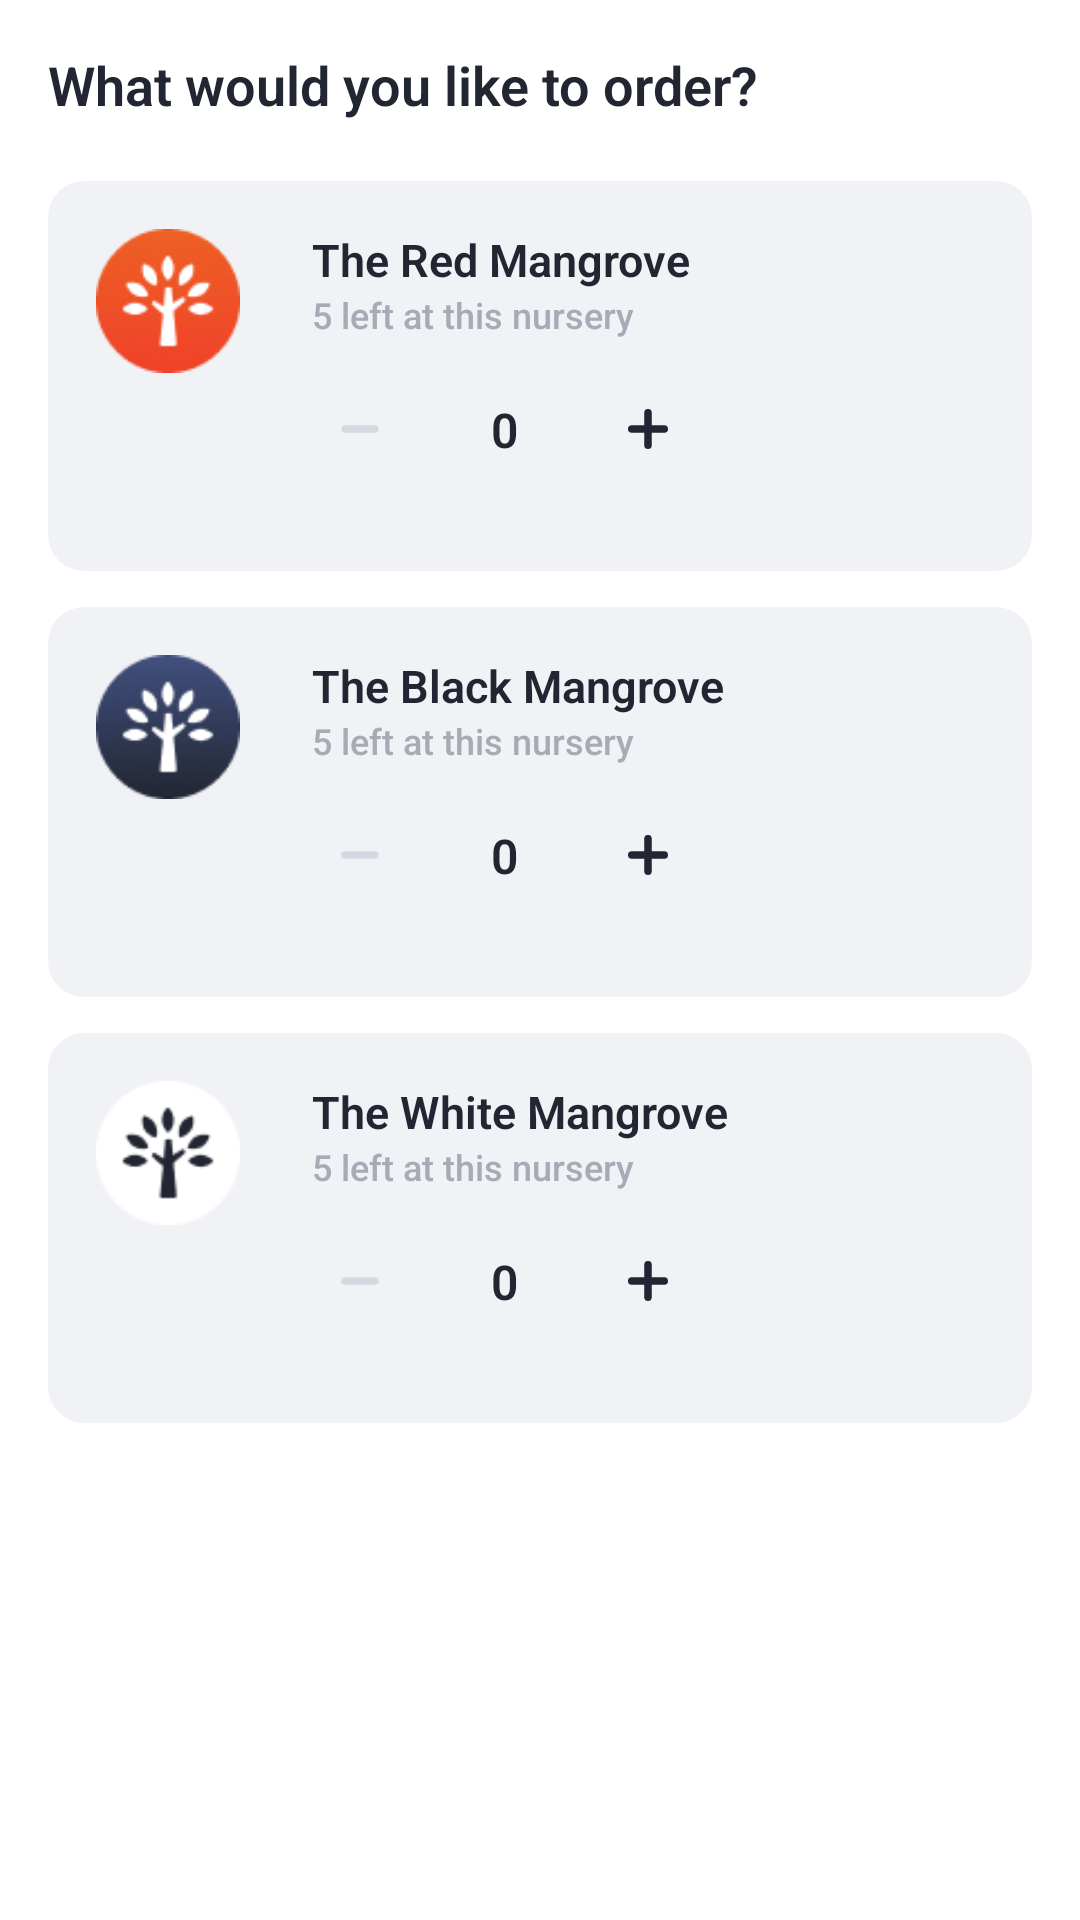

Where to tap for icons on this 1080px x 1920px app screen, as point (x, y):
plus: point (648, 429), point (648, 855), point (648, 1281)
tree: point (168, 301), point (168, 727), point (168, 1153)
